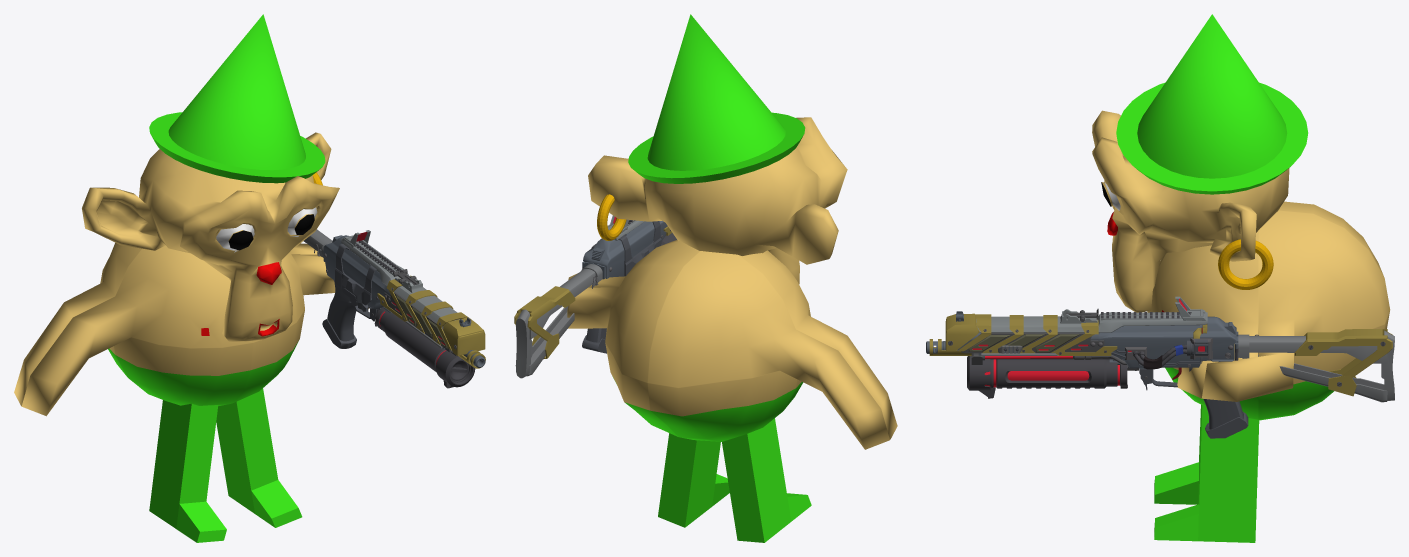
The model's file is Monkey.fbx.
3 renders of one model, left to right at view 1: azimuth 30°, elevation 25°; view 2: azimuth 150°, elevation 25°; view 3: azimuth 270°, elevation 25°, orthographic. The views are drawn at different scales.
Visible parts, largest first — view 1: Cube.169, Suzanne, Cone, Cube.174, Cube.173, Cylinder.076, Cube.254, Cube.223, Cube.251, Cube.240, Cube.195; view 2: Cube.169, Suzanne, Cone, Cube.174, Cube.173, Cube.254, Cube.233, Cube.234, Cube.235, Cube.236, Torus.004; view 3: Cube.169, Cone, Suzanne, Cube.173, Cylinder.076, Cube.254, Cube.233, Cube.223, Cube.174, Cube.236, Torus.004, Cube.235 (+5 smaller).
Part boxes in pixels (x1,y1,x2,y2): Cube.169: [14, 243, 368, 416]; Suzanne: [82, 132, 339, 341]; Cone: [149, 14, 325, 183]; Cube.174: [149, 400, 226, 542]; Cube.173: [216, 388, 302, 527]; Cylinder.076: [375, 306, 475, 387]; Cube.254: [323, 235, 474, 350]; Cube.223: [341, 238, 459, 326]; Cube.251: [443, 317, 485, 355]; Cube.240: [327, 280, 356, 341]; Cube.195: [335, 268, 371, 305]; Cube.169: [567, 240, 897, 449]; Suzanne: [588, 117, 847, 284]; Cone: [628, 14, 805, 183]; Cube.174: [722, 418, 811, 542]; Cube.173: [658, 433, 729, 527]; Cube.254: [583, 221, 667, 278]; Cube.233: [514, 286, 575, 341]; Cube.234: [515, 309, 532, 378]; Cube.235: [526, 306, 574, 376]; Cube.236: [529, 269, 595, 339]; Torus.004: [597, 194, 626, 240]; Cube.169: [1147, 201, 1390, 420]; Cone: [1116, 14, 1308, 194]; Suzanne: [1092, 110, 1289, 312]; Cube.173: [1154, 404, 1259, 542]; Cylinder.076: [967, 356, 1127, 390]; Cube.254: [957, 316, 1236, 367]; Cube.233: [1294, 329, 1392, 377]; Cube.223: [976, 312, 1207, 332]; Cube.174: [1154, 404, 1201, 504]; Cube.236: [1249, 336, 1387, 363]; Torus.004: [1218, 239, 1273, 289]; Cube.235: [1258, 354, 1387, 402].
Bounding box in the file's own units: 371 × 522 × 421.
